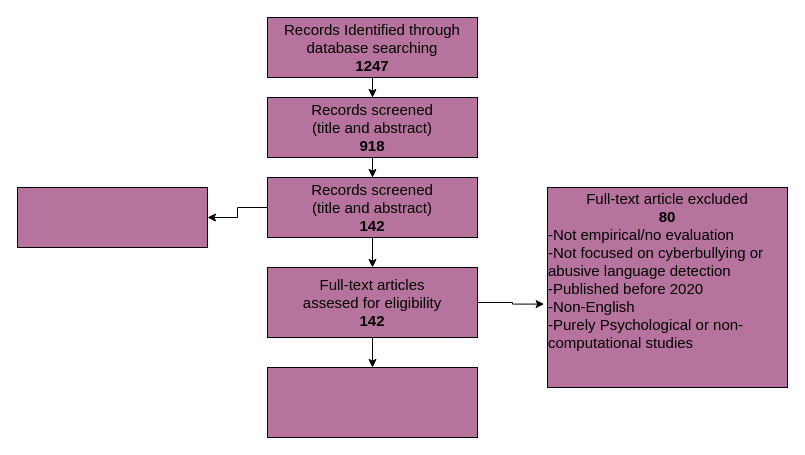
Image size: 805x455. Some labels were removed from this diagram. Each missing label, with the centre of its shape:
"Records excluded 776" goes at (x=112, y=217).
"Studies included in the final systematic review 62" goes at (x=372, y=402).
